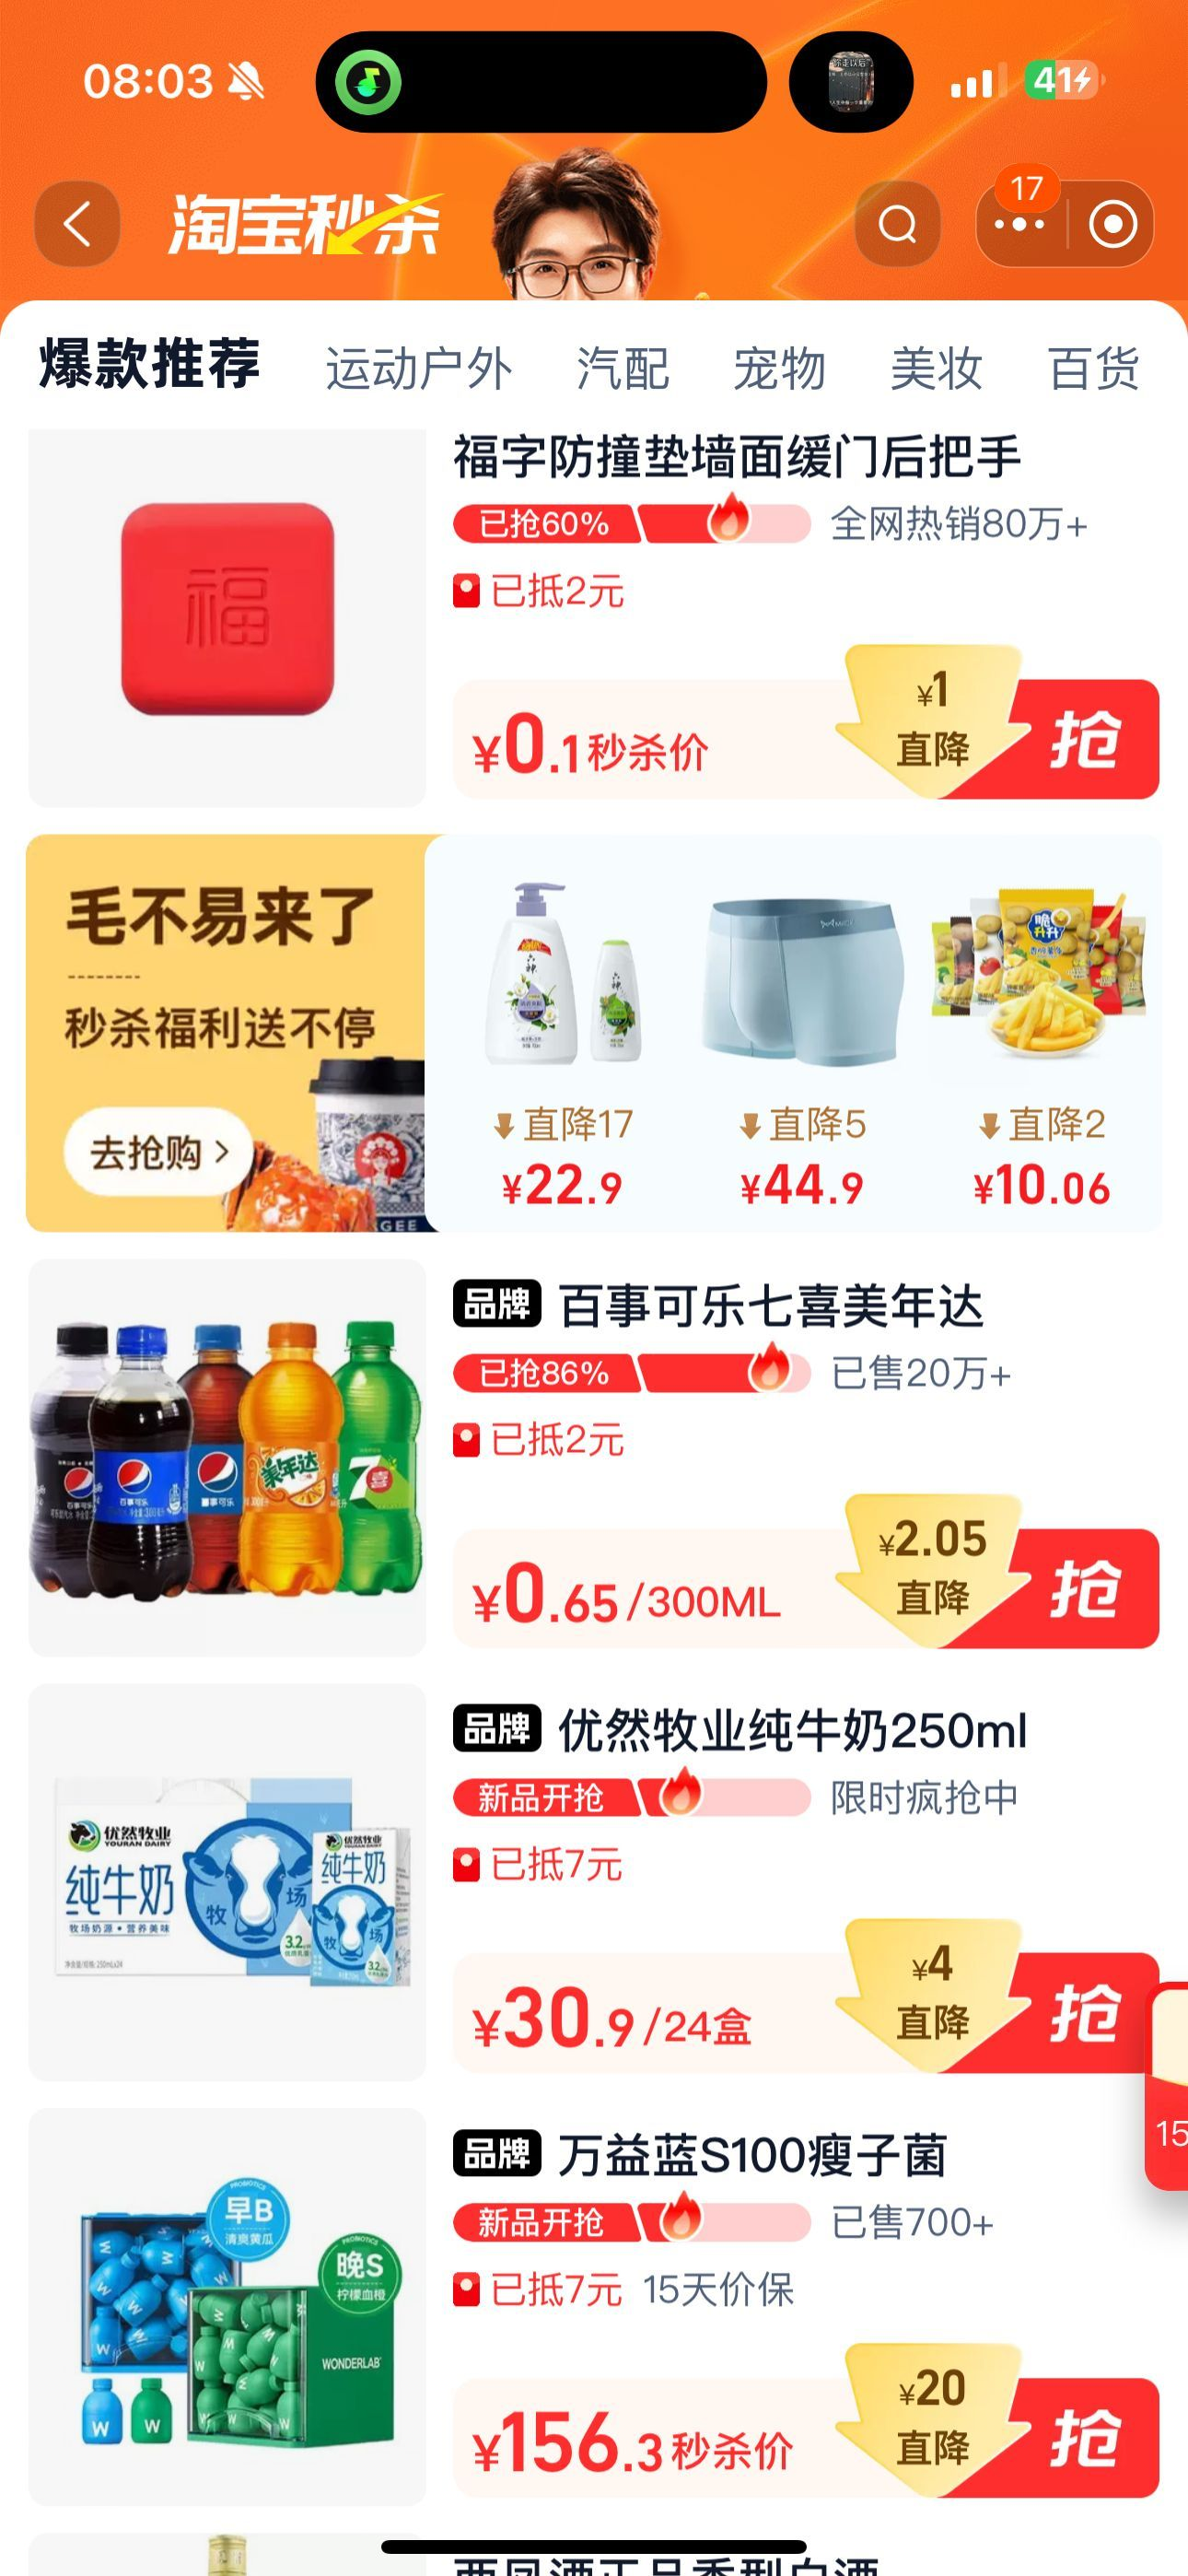banner: (33, 836, 1172, 1245)
item: (21, 2103, 1181, 2510), (30, 1681, 1178, 2086), (36, 1257, 1178, 1661), (33, 427, 1176, 817)
op_bar: (2, 149, 1170, 301)
